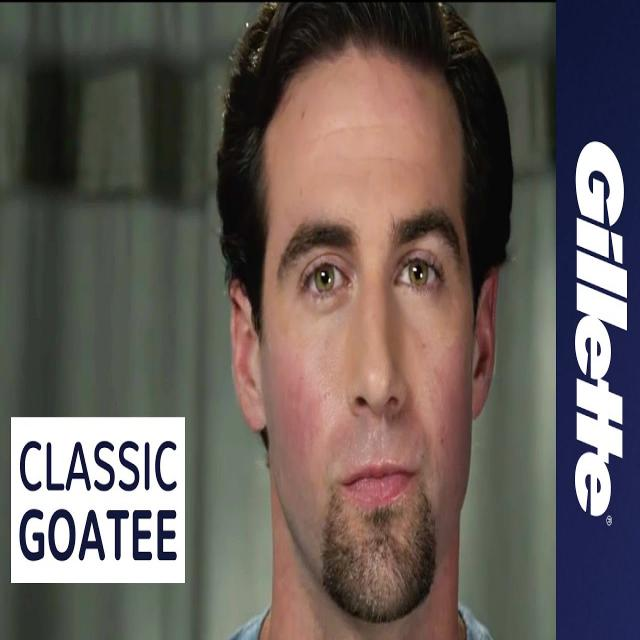beard: (323, 485, 437, 624)
hair: (217, 1, 514, 327)
